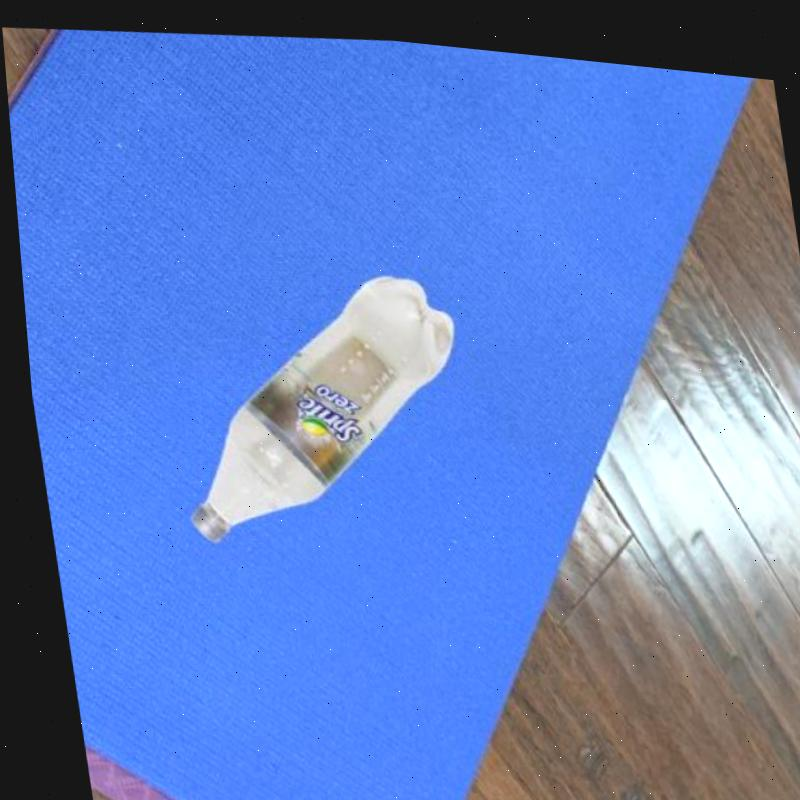botella: (143, 243, 480, 563)
